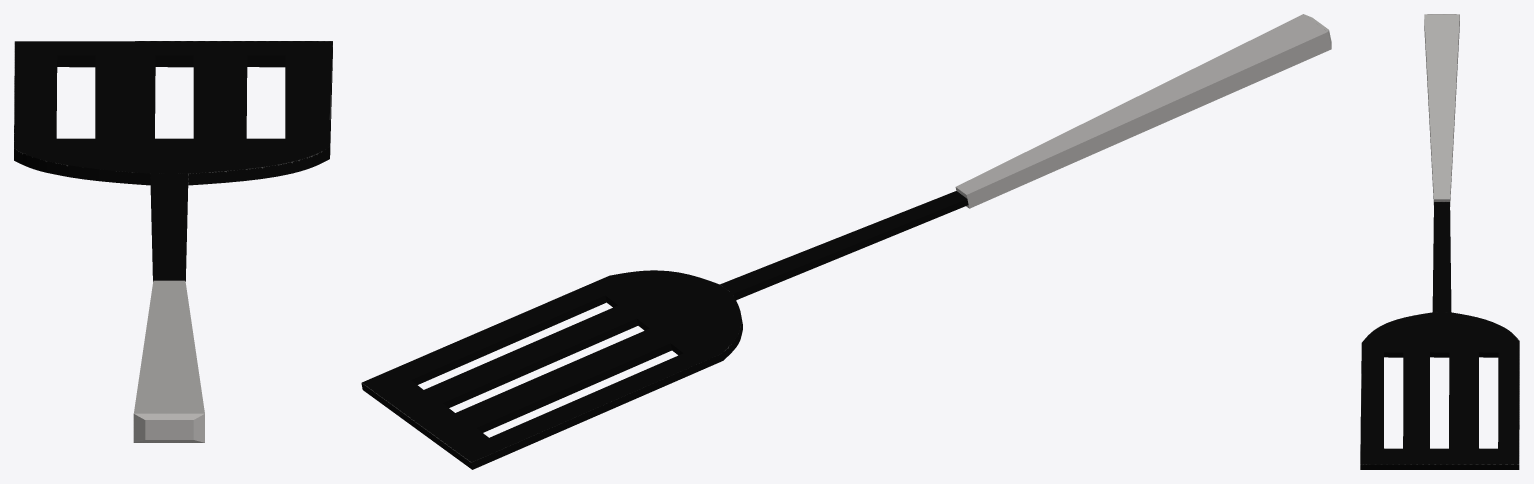
The model's file is Espatula.fbx.
3 views of the same model, side by side, from view 1: azimuth 90°, elevation 25°; view 2: azimuth 210°, elevation 25°; view 3: azimuth 270°, elevation 25° (orthographic). The views are drawn at different scales.
Parts seen in each view (by area): view 1: Espatula(Mapeada)(texturizada); view 2: Espatula(Mapeada)(texturizada); view 3: Espatula(Mapeada)(texturizada).
Boxes of the visible parts, x1,y1,x2,y2 form: Espatula(Mapeada)(texturizada): (14,41,332,442); Espatula(Mapeada)(texturizada): (361,14,1331,469); Espatula(Mapeada)(texturizada): (1360,14,1519,469).
Size of the model in its own units: 175 by 34.88 by 36.64.
